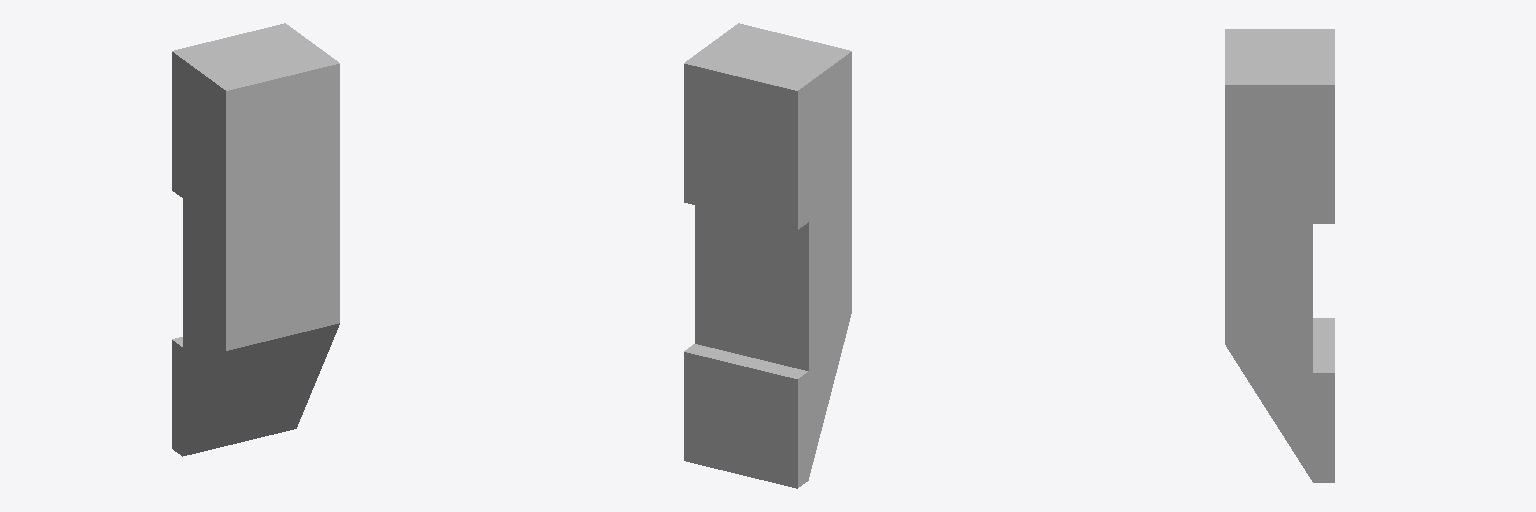
File: PP_Gripper_1.obj
3 views of the same model, side by side, from view 1: azimuth 30°, elevation 25°; view 2: azimuth 150°, elevation 25°; view 3: azimuth 270°, elevation 25° (orthographic).
Parts seen in each view (by area): view 1: Salva i corpi1[4]; view 2: Salva i corpi1[4]; view 3: Salva i corpi1[4].
Part boxes in pixels (x1,y1,x2,y2): Salva i corpi1[4]: (172, 23, 339, 456); Salva i corpi1[4]: (684, 23, 851, 488); Salva i corpi1[4]: (1225, 29, 1334, 482).
Size of the model in its own units: 12 by 40 by 10.